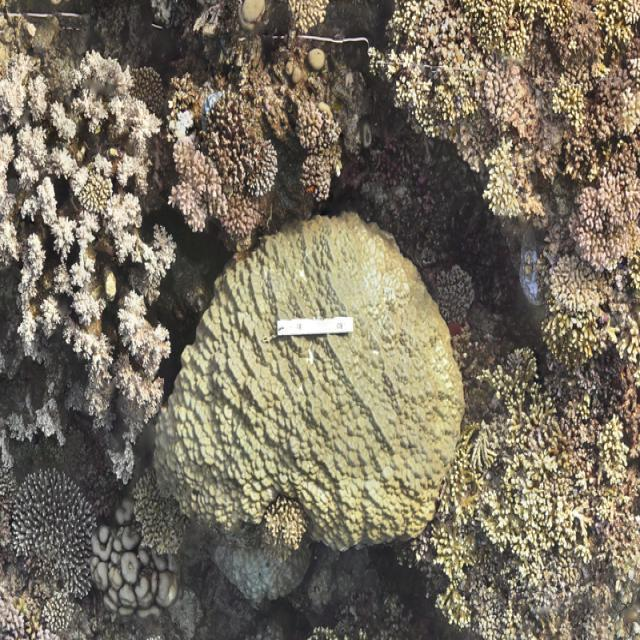Bleached Coral: (153, 83, 220, 163)
Healthy Coral: (176, 235, 452, 498), (377, 0, 640, 247), (452, 339, 640, 634), (0, 457, 110, 611)
